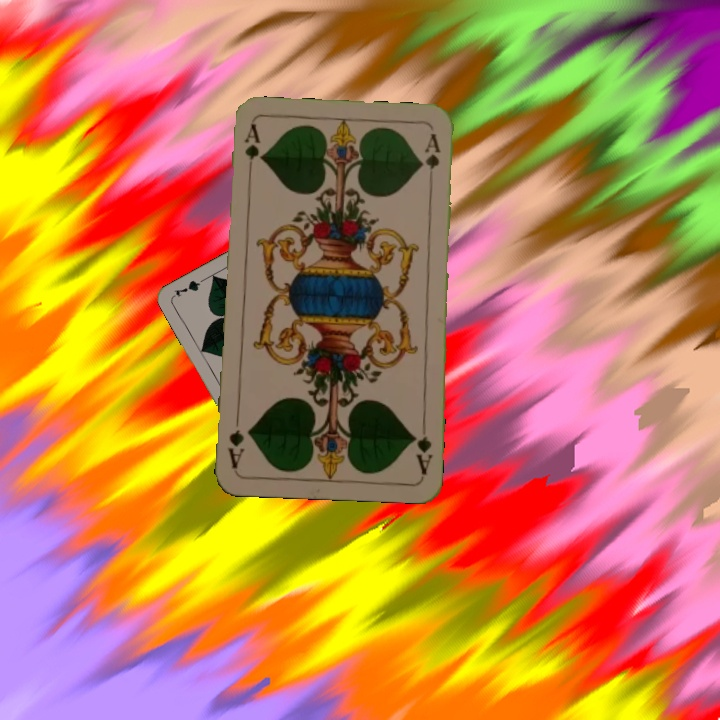GA: (409, 418, 435, 477), (240, 121, 262, 180)
